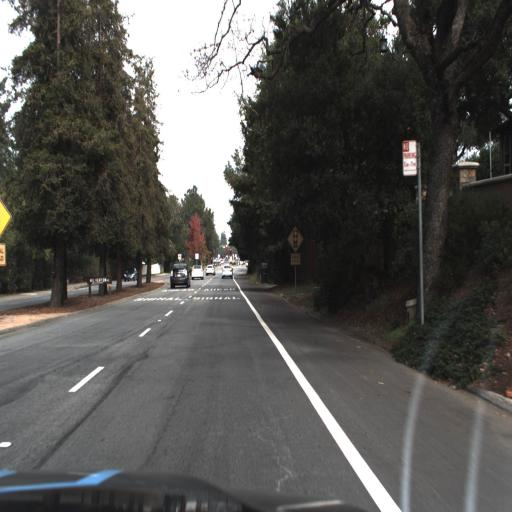car: (165, 264, 192, 296), (216, 258, 236, 285), (121, 263, 141, 285), (189, 260, 206, 282), (204, 259, 217, 280)
